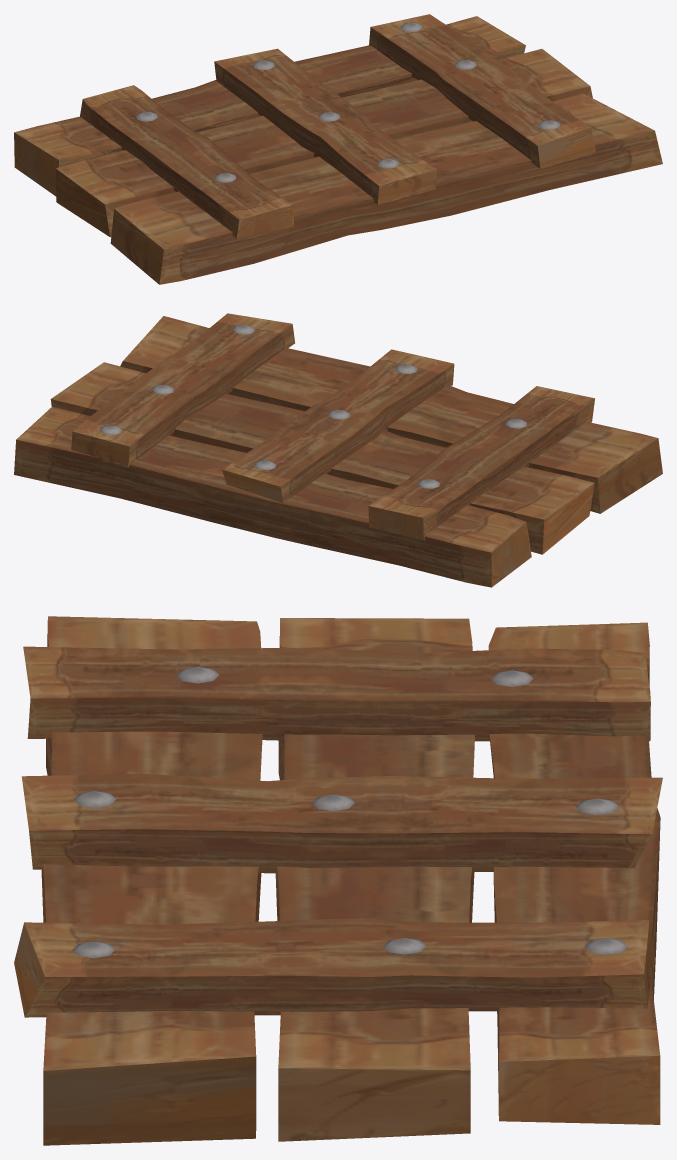
File: SM_Farm_FoodContainer_Lid_04.fbx
3 renders of one model, top to bottom at view 1: azimuth 30°, elevation 25°; view 2: azimuth 150°, elevation 25°; view 3: azimuth 270°, elevation 25°, orthographic. The views are drawn at different scales.
Visible parts, largest first — view 1: SM_Farm_FoodContainer_Lid_04_LOD0; view 2: SM_Farm_FoodContainer_Lid_04_LOD0; view 3: SM_Farm_FoodContainer_Lid_04_LOD0.
Part boxes in pixels (bbox=[...]): SM_Farm_FoodContainer_Lid_04_LOD0: bbox=[14, 14, 662, 284]; SM_Farm_FoodContainer_Lid_04_LOD0: bbox=[14, 313, 662, 587]; SM_Farm_FoodContainer_Lid_04_LOD0: bbox=[14, 616, 662, 1145].
Size of the model in its own units: 95.29 by 10.72 by 55.95.
